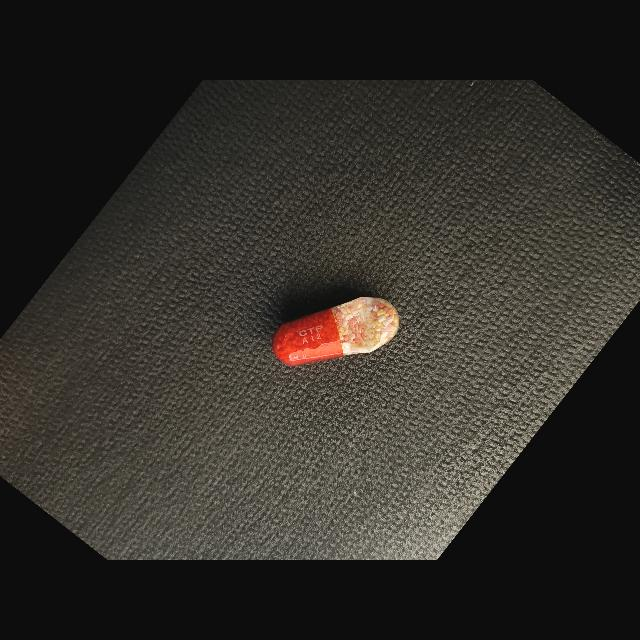Defective Capsule: (271, 297, 399, 366)
